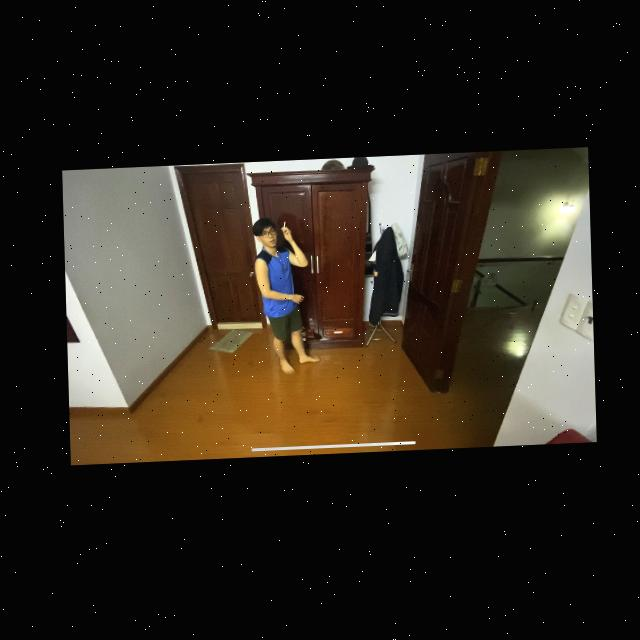cigarette: (282, 223, 285, 229)
